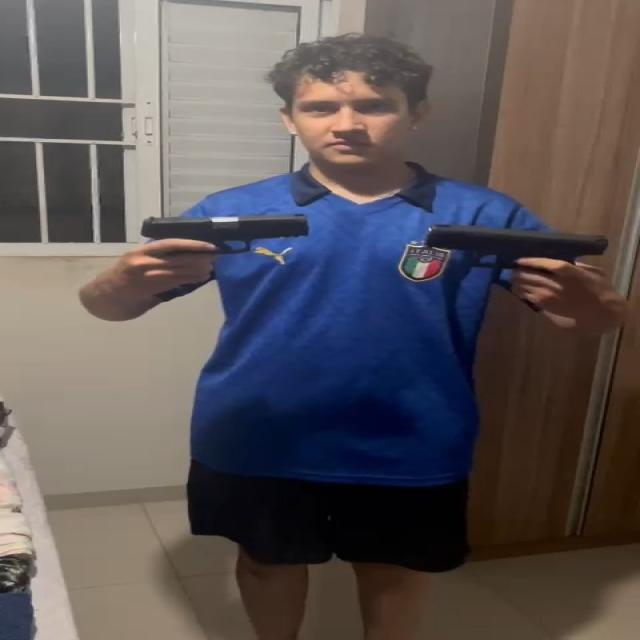gun: (424, 224, 614, 274), (140, 212, 315, 258)
